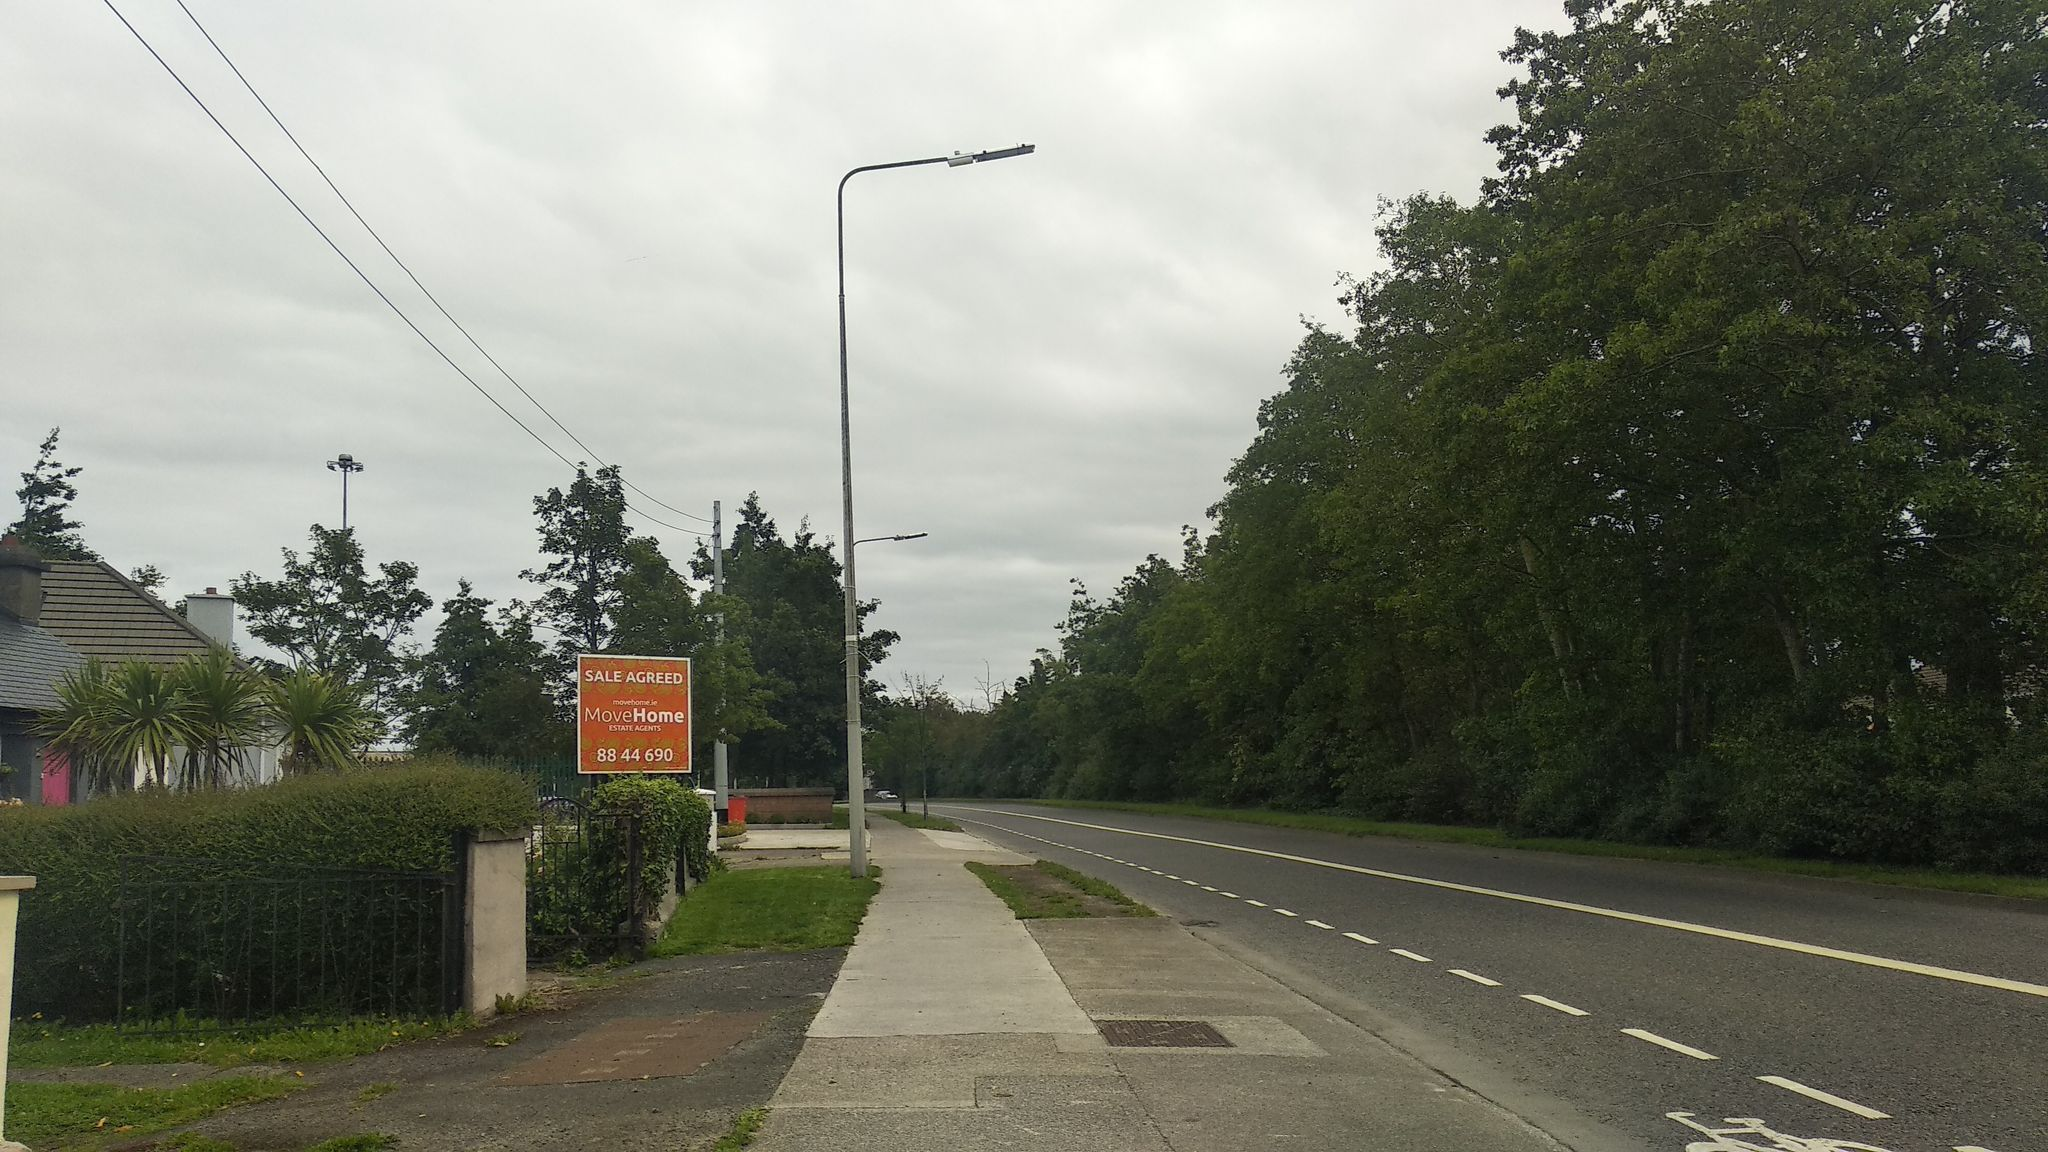property sign: (558, 632, 710, 782)
